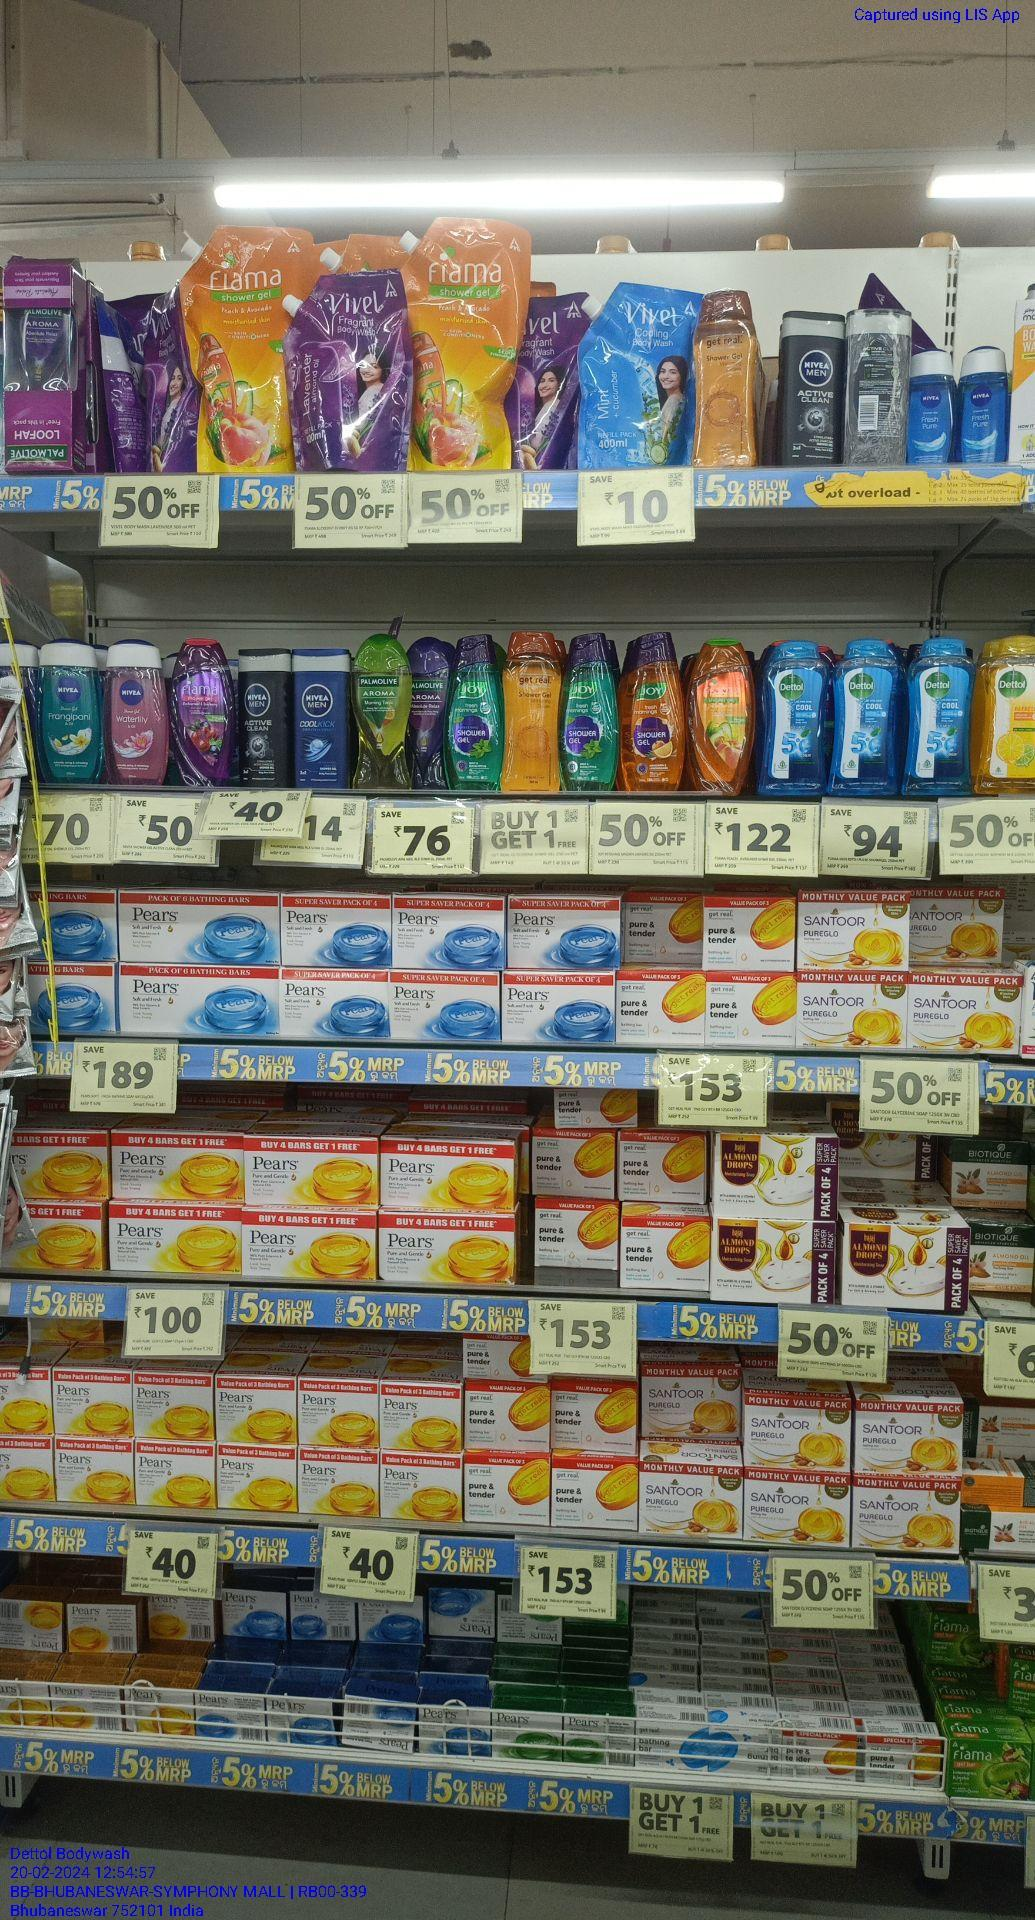Dettol_Bodywash_Cool: (758, 640, 827, 796), (831, 634, 899, 794), (904, 640, 973, 791)
Dettol_Bodywash_Refresh: (976, 628, 1035, 798)
Fiama_Shower_Gel_Peach_and_Avocado_250ML: (688, 638, 755, 795)
Get_Real_Shower_Gel_Moisturising_Glycerin_300ML: (693, 293, 756, 468), (503, 628, 556, 791)
Joy_Shower_Gel_Mandarin_and_Lemongrass_250ML: (619, 633, 683, 791)
Joy_Shower_Gel_Mint_and_Eucalyptus_250ML: (558, 632, 616, 792), (445, 634, 500, 790)
Nivea_Shower_Gel_Frangipani_and_Oil_250ML: (40, 637, 97, 786)
Nivea_Shower_Gel_Waterlily_and_Oil_250ML: (107, 638, 168, 784)
Palmolive_Aroma_Morning_Tonic_Shower_Gel_250ML: (351, 634, 412, 790)
